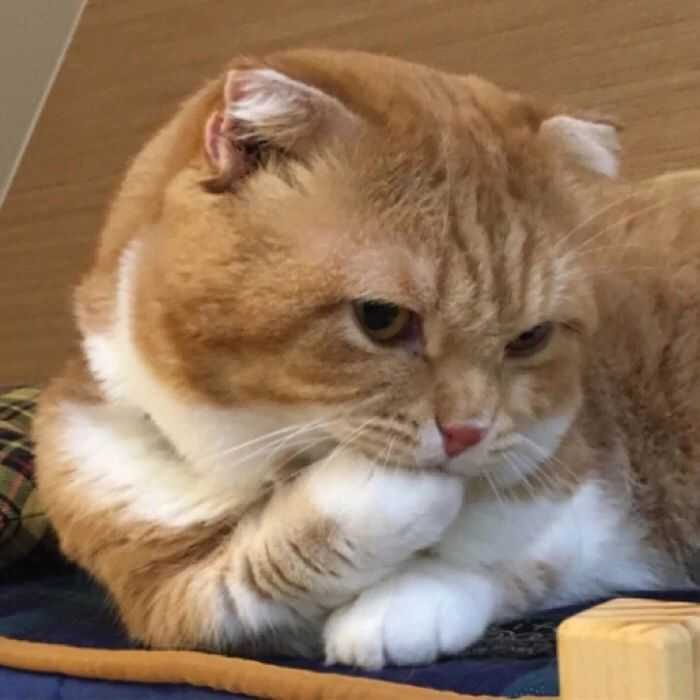cat: (128, 41, 646, 495)
